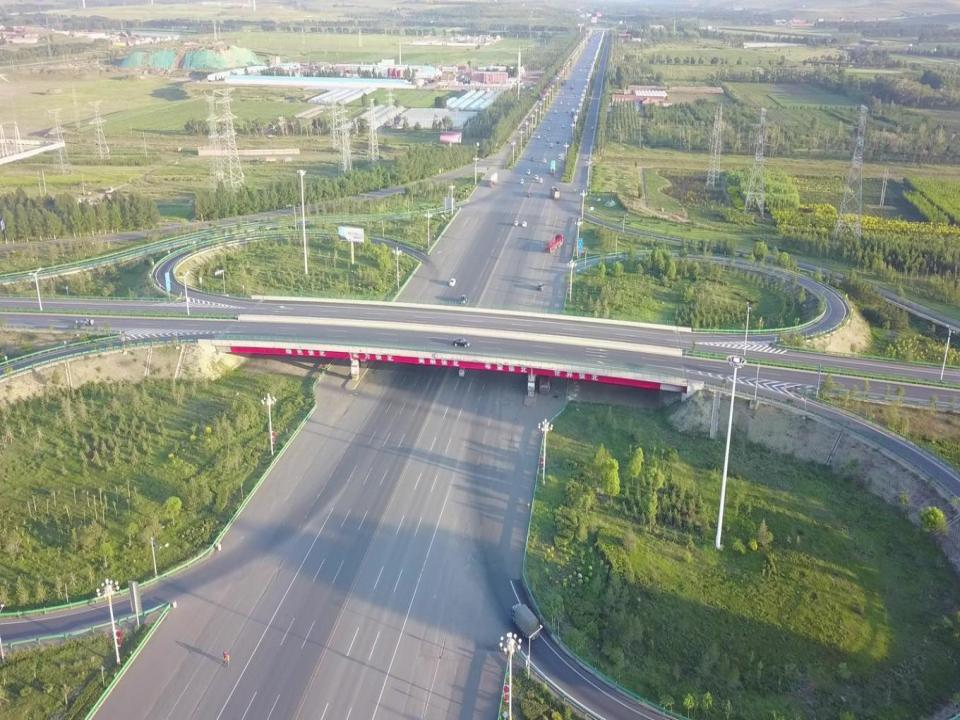car: (453, 337, 470, 347), (460, 295, 466, 304), (538, 282, 544, 291), (450, 278, 456, 286), (522, 221, 526, 227), (514, 220, 518, 226), (542, 158, 546, 163), (534, 175, 538, 180), (526, 192, 530, 197), (520, 178, 524, 183), (527, 168, 530, 174), (539, 178, 542, 183), (531, 156, 534, 161)
truck: (510, 603, 539, 640), (538, 367, 553, 395), (544, 233, 564, 254), (487, 172, 498, 188), (549, 185, 559, 200), (550, 159, 556, 175)
van: (459, 364, 466, 376)
